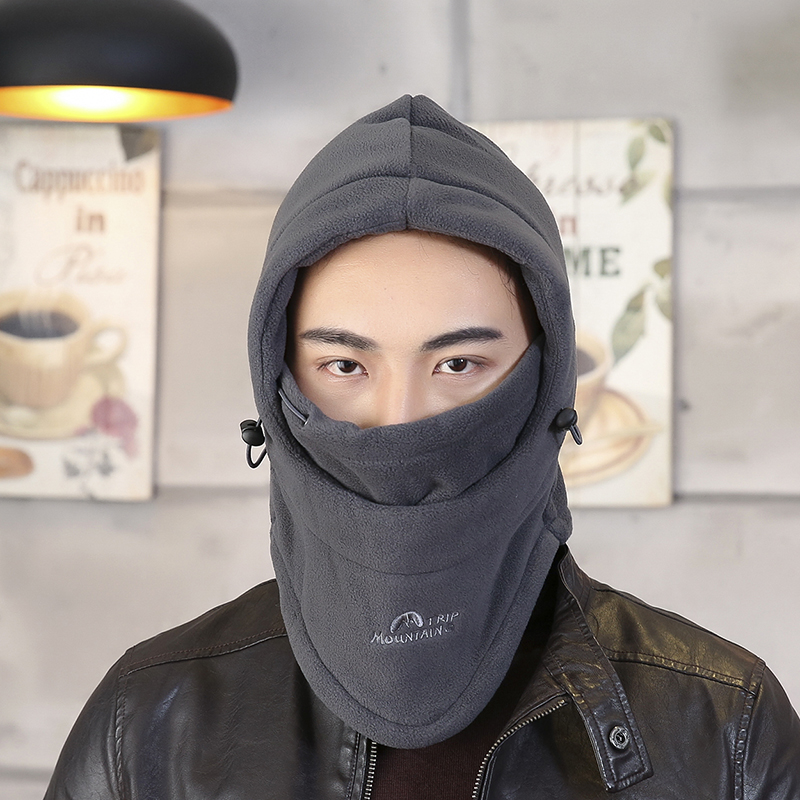face_mask: (289, 237, 529, 537)
